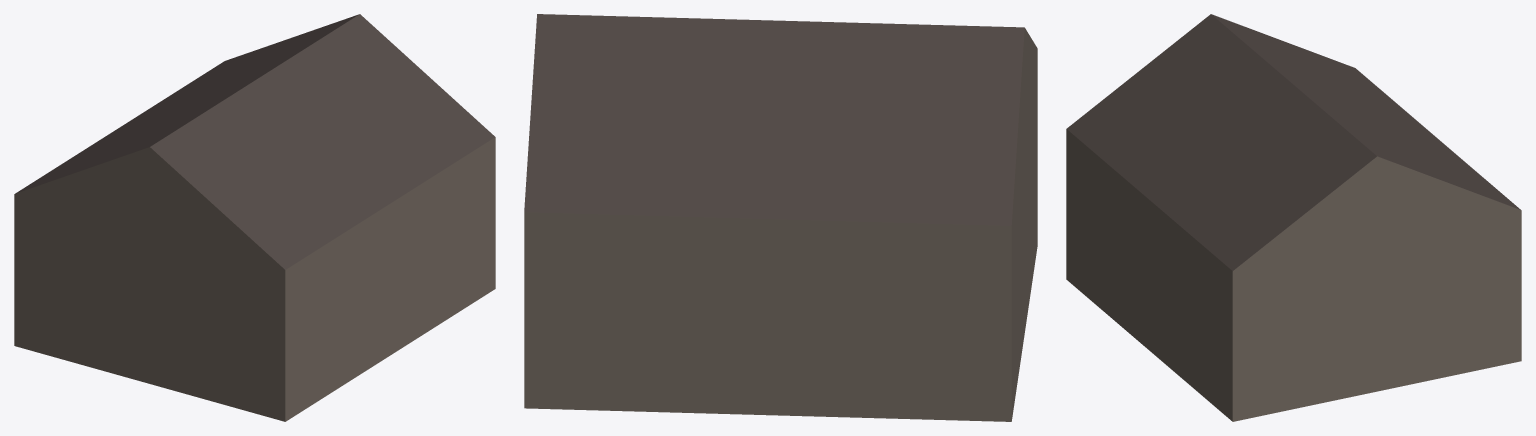
3 views of the same model, side by side, from view 1: azimuth 30°, elevation 25°; view 2: azimuth 150°, elevation 25°; view 3: azimuth 270°, elevation 25° (orthographic). The views are drawn at different scales.
Parts seen in each view (by area): view 1: HP-w369342540; view 2: HP-w369342540; view 3: HP-w369342540.
Boxes of the visible parts, x1,y1,x2,y2 form: HP-w369342540: (14, 14, 495, 421); HP-w369342540: (524, 14, 1037, 421); HP-w369342540: (1066, 14, 1521, 421).
Bounding box in the file's own units: 17.33 × 9.36 × 16.41.
